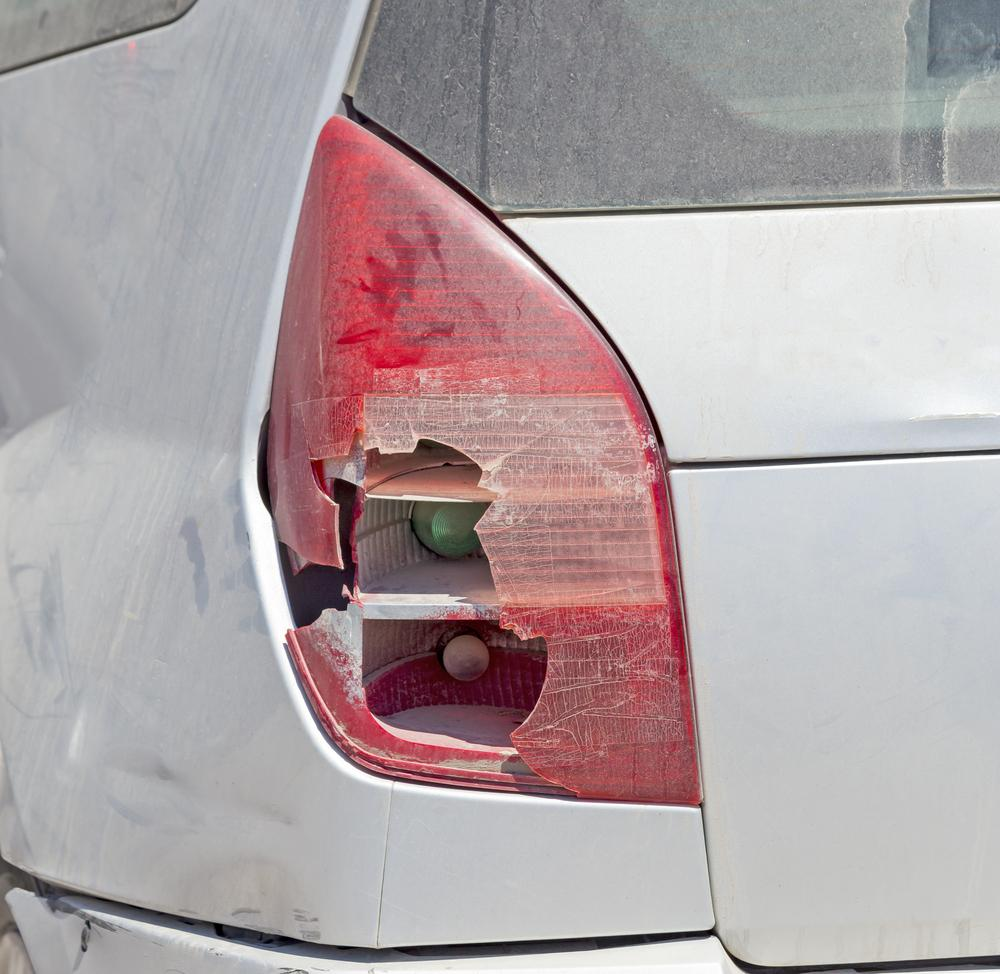lamp broken: (267, 109, 705, 808)
scratch: (42, 898, 327, 974)
